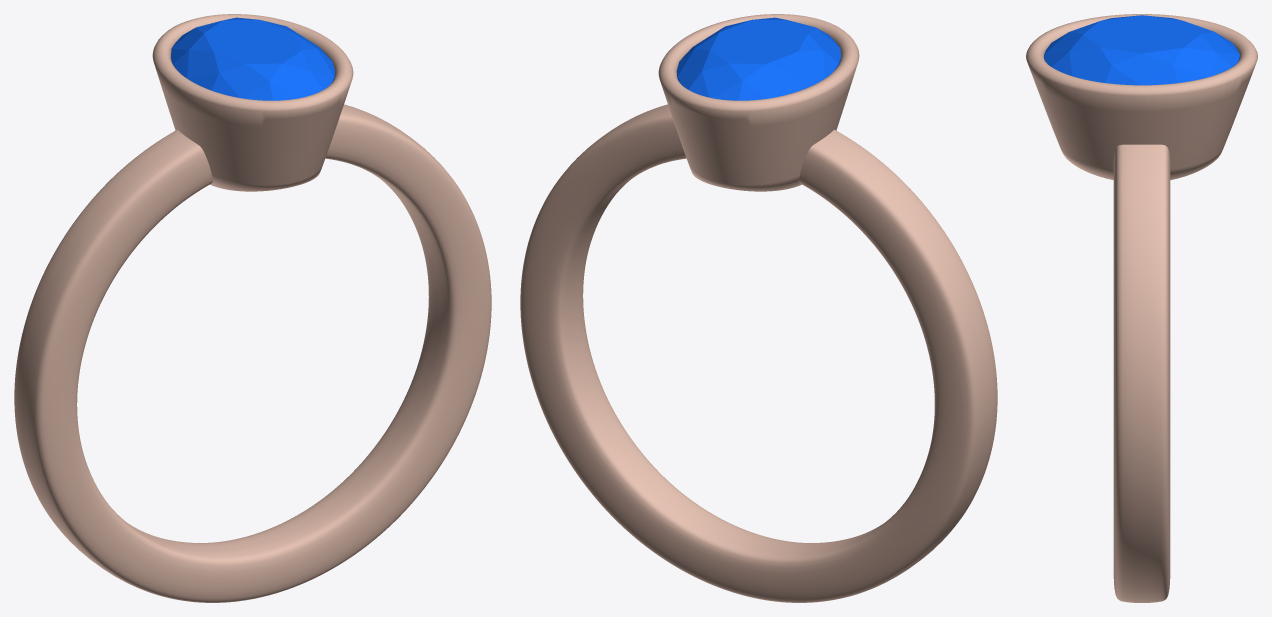
The model's file is bluesapphire-oval-rosegold-bezelset-straightband-nosidestones.glb.
3 renders of one model, left to right at view 1: azimuth 30°, elevation 25°; view 2: azimuth 150°, elevation 25°; view 3: azimuth 270°, elevation 25°, orthographic.
Visible parts, largest first — view 1: metal, stone; view 2: metal, stone; view 3: metal, stone.
Part boxes in pixels (x1=…): metal: x1=14, y1=14, x2=491, y2=602; stone: x1=170, y1=17, x2=335, y2=100; metal: x1=520, y1=14, x2=997, y2=602; stone: x1=676, y1=17, x2=840, y2=100; metal: x1=1026, y1=14, x2=1257, y2=602; stone: x1=1044, y1=15, x2=1239, y2=85.
Size of the model in its own units: 20.5 by 23.41 by 9.04.
